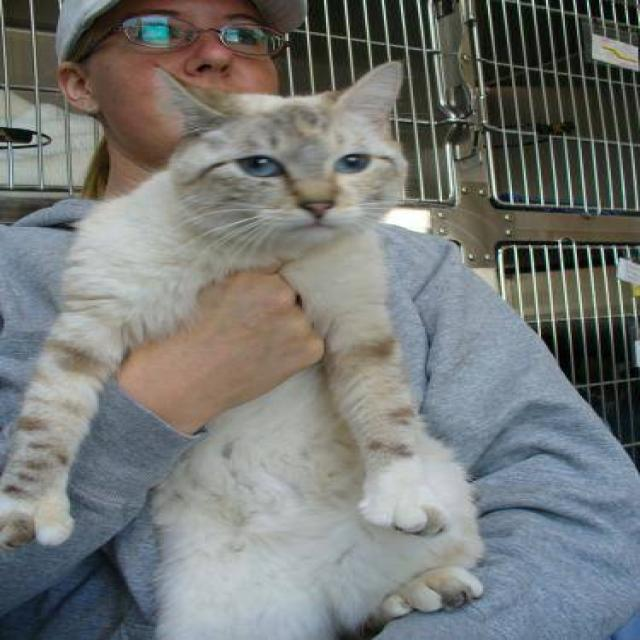cat: (0, 57, 486, 638)
